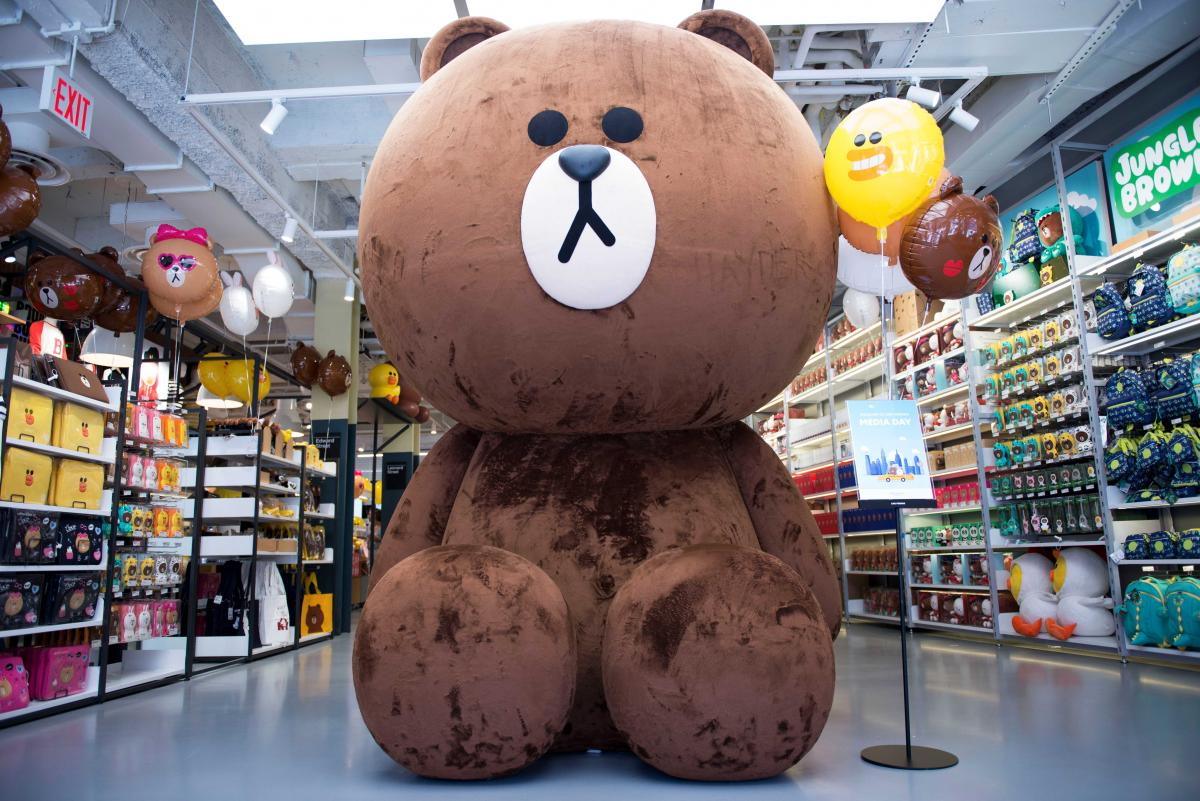line_brown: (336, 8, 848, 448), (892, 175, 1006, 310)
